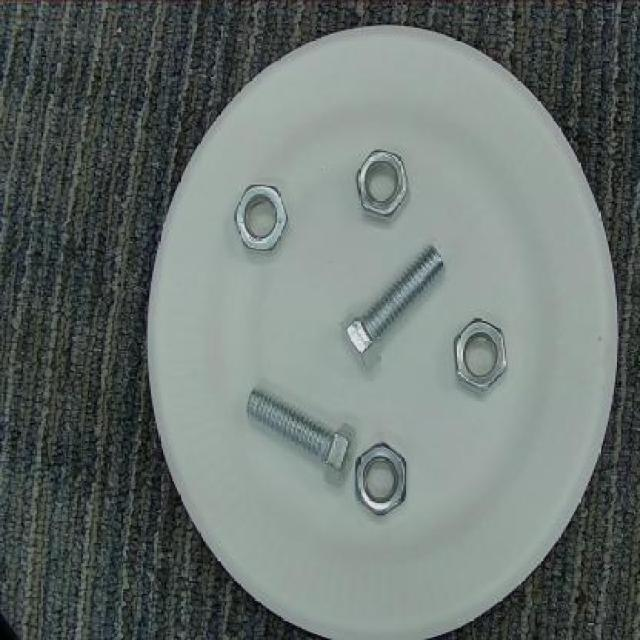Bolt: (342, 240, 451, 369), (242, 383, 356, 486)
Nut: (451, 315, 513, 397), (354, 440, 415, 517), (233, 180, 288, 252), (358, 148, 410, 223)
